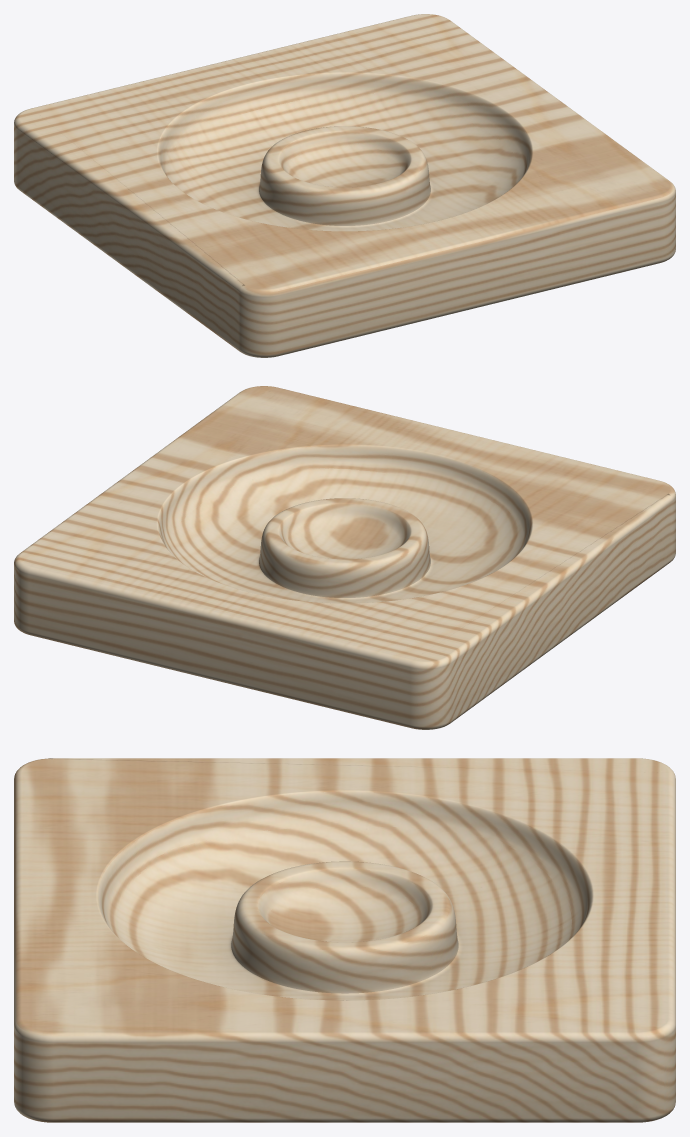
The model's file is bead-tray.glb.
The picture shows the model from 3 angles, top to bottom: view 1: azimuth 30°, elevation 25°; view 2: azimuth 150°, elevation 25°; view 3: azimuth 270°, elevation 25°; orthographic projection. The views are drawn at different scales.
Visible parts, largest first — view 1: BeadTray; view 2: BeadTray; view 3: BeadTray.
Part boxes in pixels (left/top/right/bottom): BeadTray: left=14, top=14, right=675, bottom=357; BeadTray: left=14, top=386, right=675, bottom=729; BeadTray: left=14, top=758, right=675, bottom=1122.
Size of the model in its own units: 0.1 by 0.015 by 0.1.
1 material, 1 textured.
